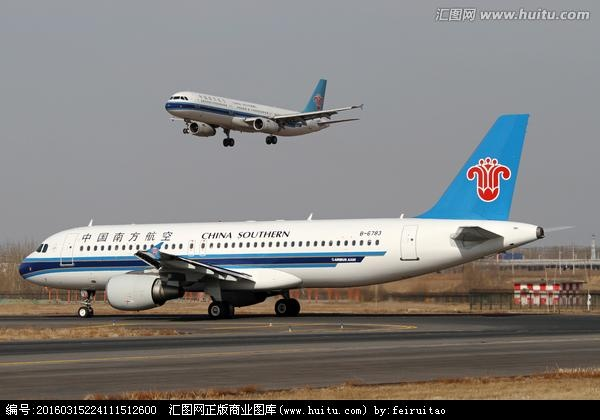airplane: (17, 113, 574, 328), (163, 70, 364, 143)
